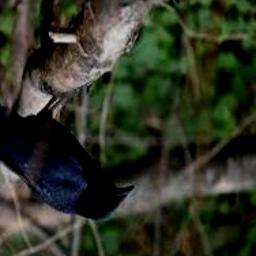Crow: (0, 57, 135, 221)
